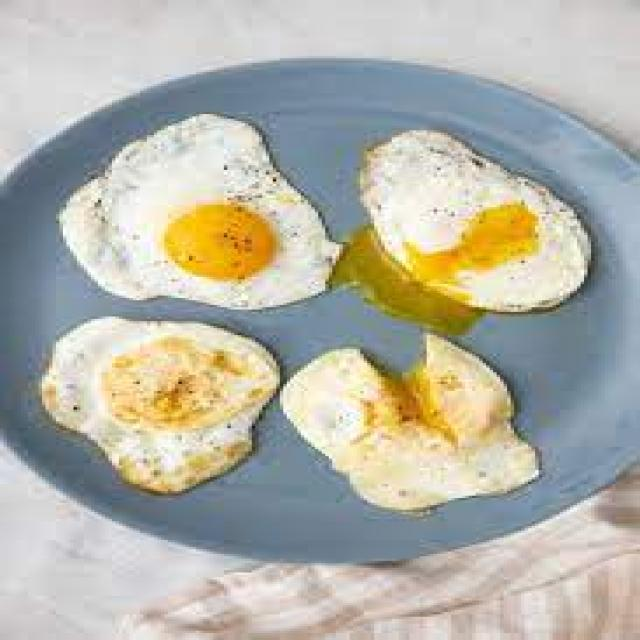Egg: (62, 114, 342, 308), (280, 335, 539, 509), (43, 317, 278, 493), (361, 131, 588, 311)
